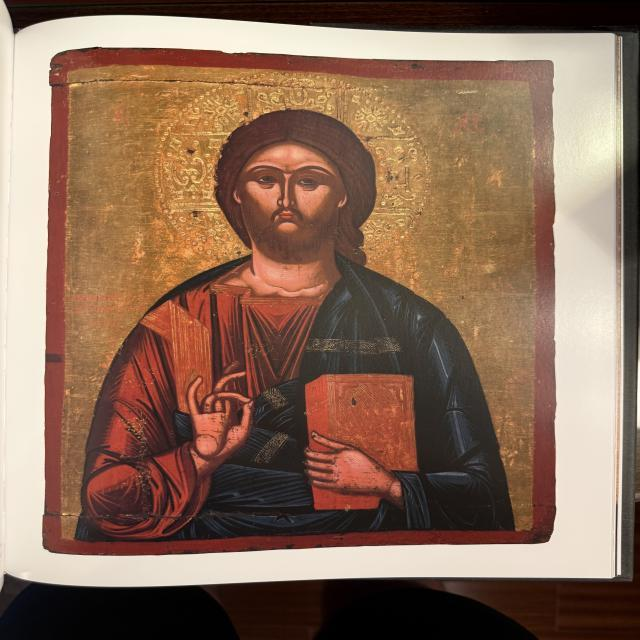aura: (154, 74, 437, 276)
book: (302, 372, 425, 510)
christ: (85, 74, 523, 530)
christ_hand: (171, 368, 261, 476)
